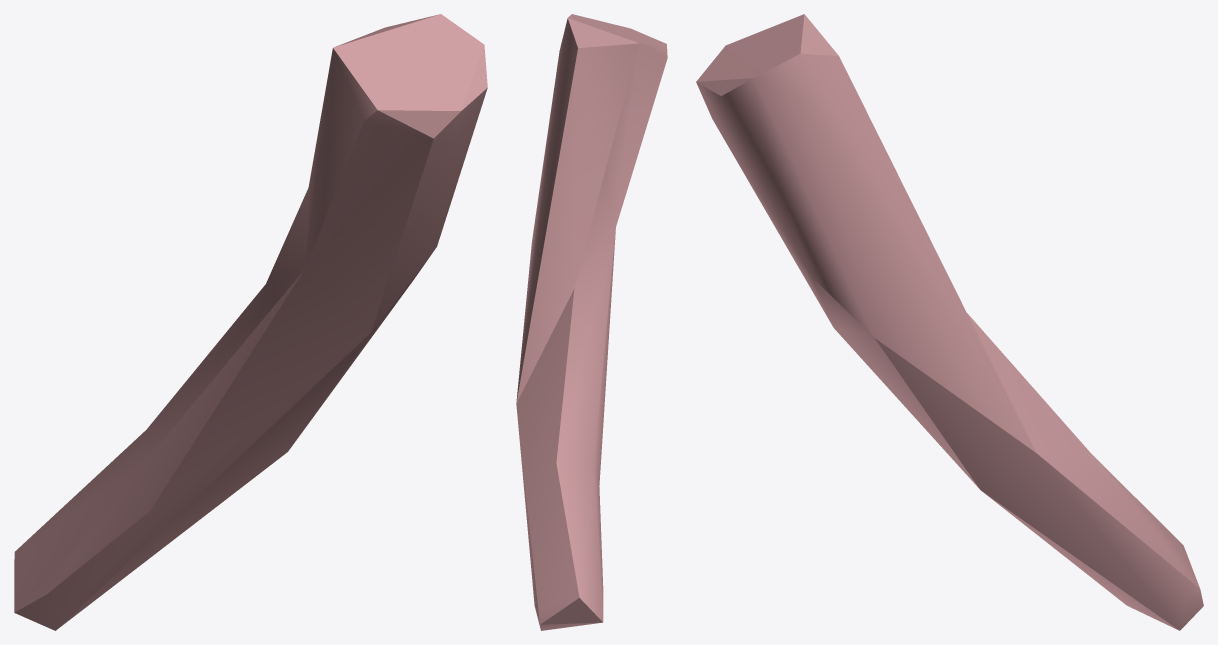
The model's file is fma68233_fj6517.glb.
3 renders of one model, left to right at view 1: azimuth 30°, elevation 25°; view 2: azimuth 150°, elevation 25°; view 3: azimuth 270°, elevation 25°, orthographic. The views are drawn at different scales.
Visible parts, largest first — view 1: FMA68233_FJ6517; view 2: FMA68233_FJ6517; view 3: FMA68233_FJ6517.
Part boxes in pixels (bbox=[...]): FMA68233_FJ6517: bbox=[14, 14, 487, 630]; FMA68233_FJ6517: bbox=[516, 14, 667, 630]; FMA68233_FJ6517: bbox=[696, 14, 1203, 630].
Bounding box in the file's own units: 0.00459 × 0.0119 × 0.00837.
